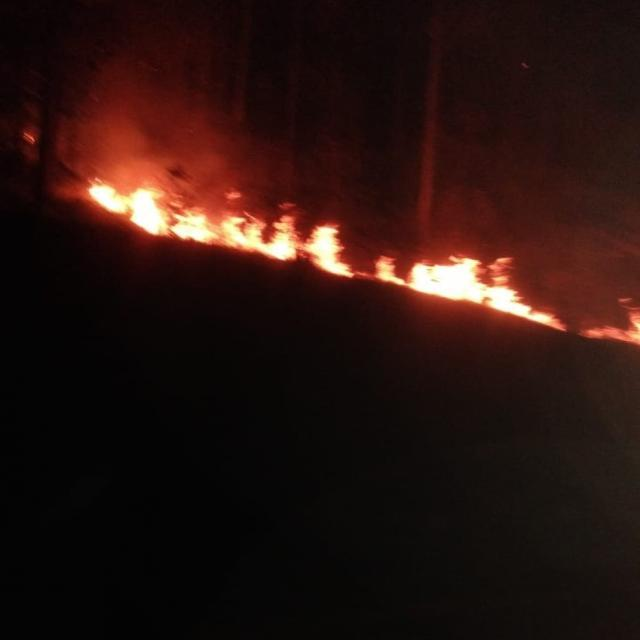Fire: (87, 182, 356, 278), (372, 252, 567, 332), (577, 297, 640, 345)
Smoke: (48, 48, 299, 216)
